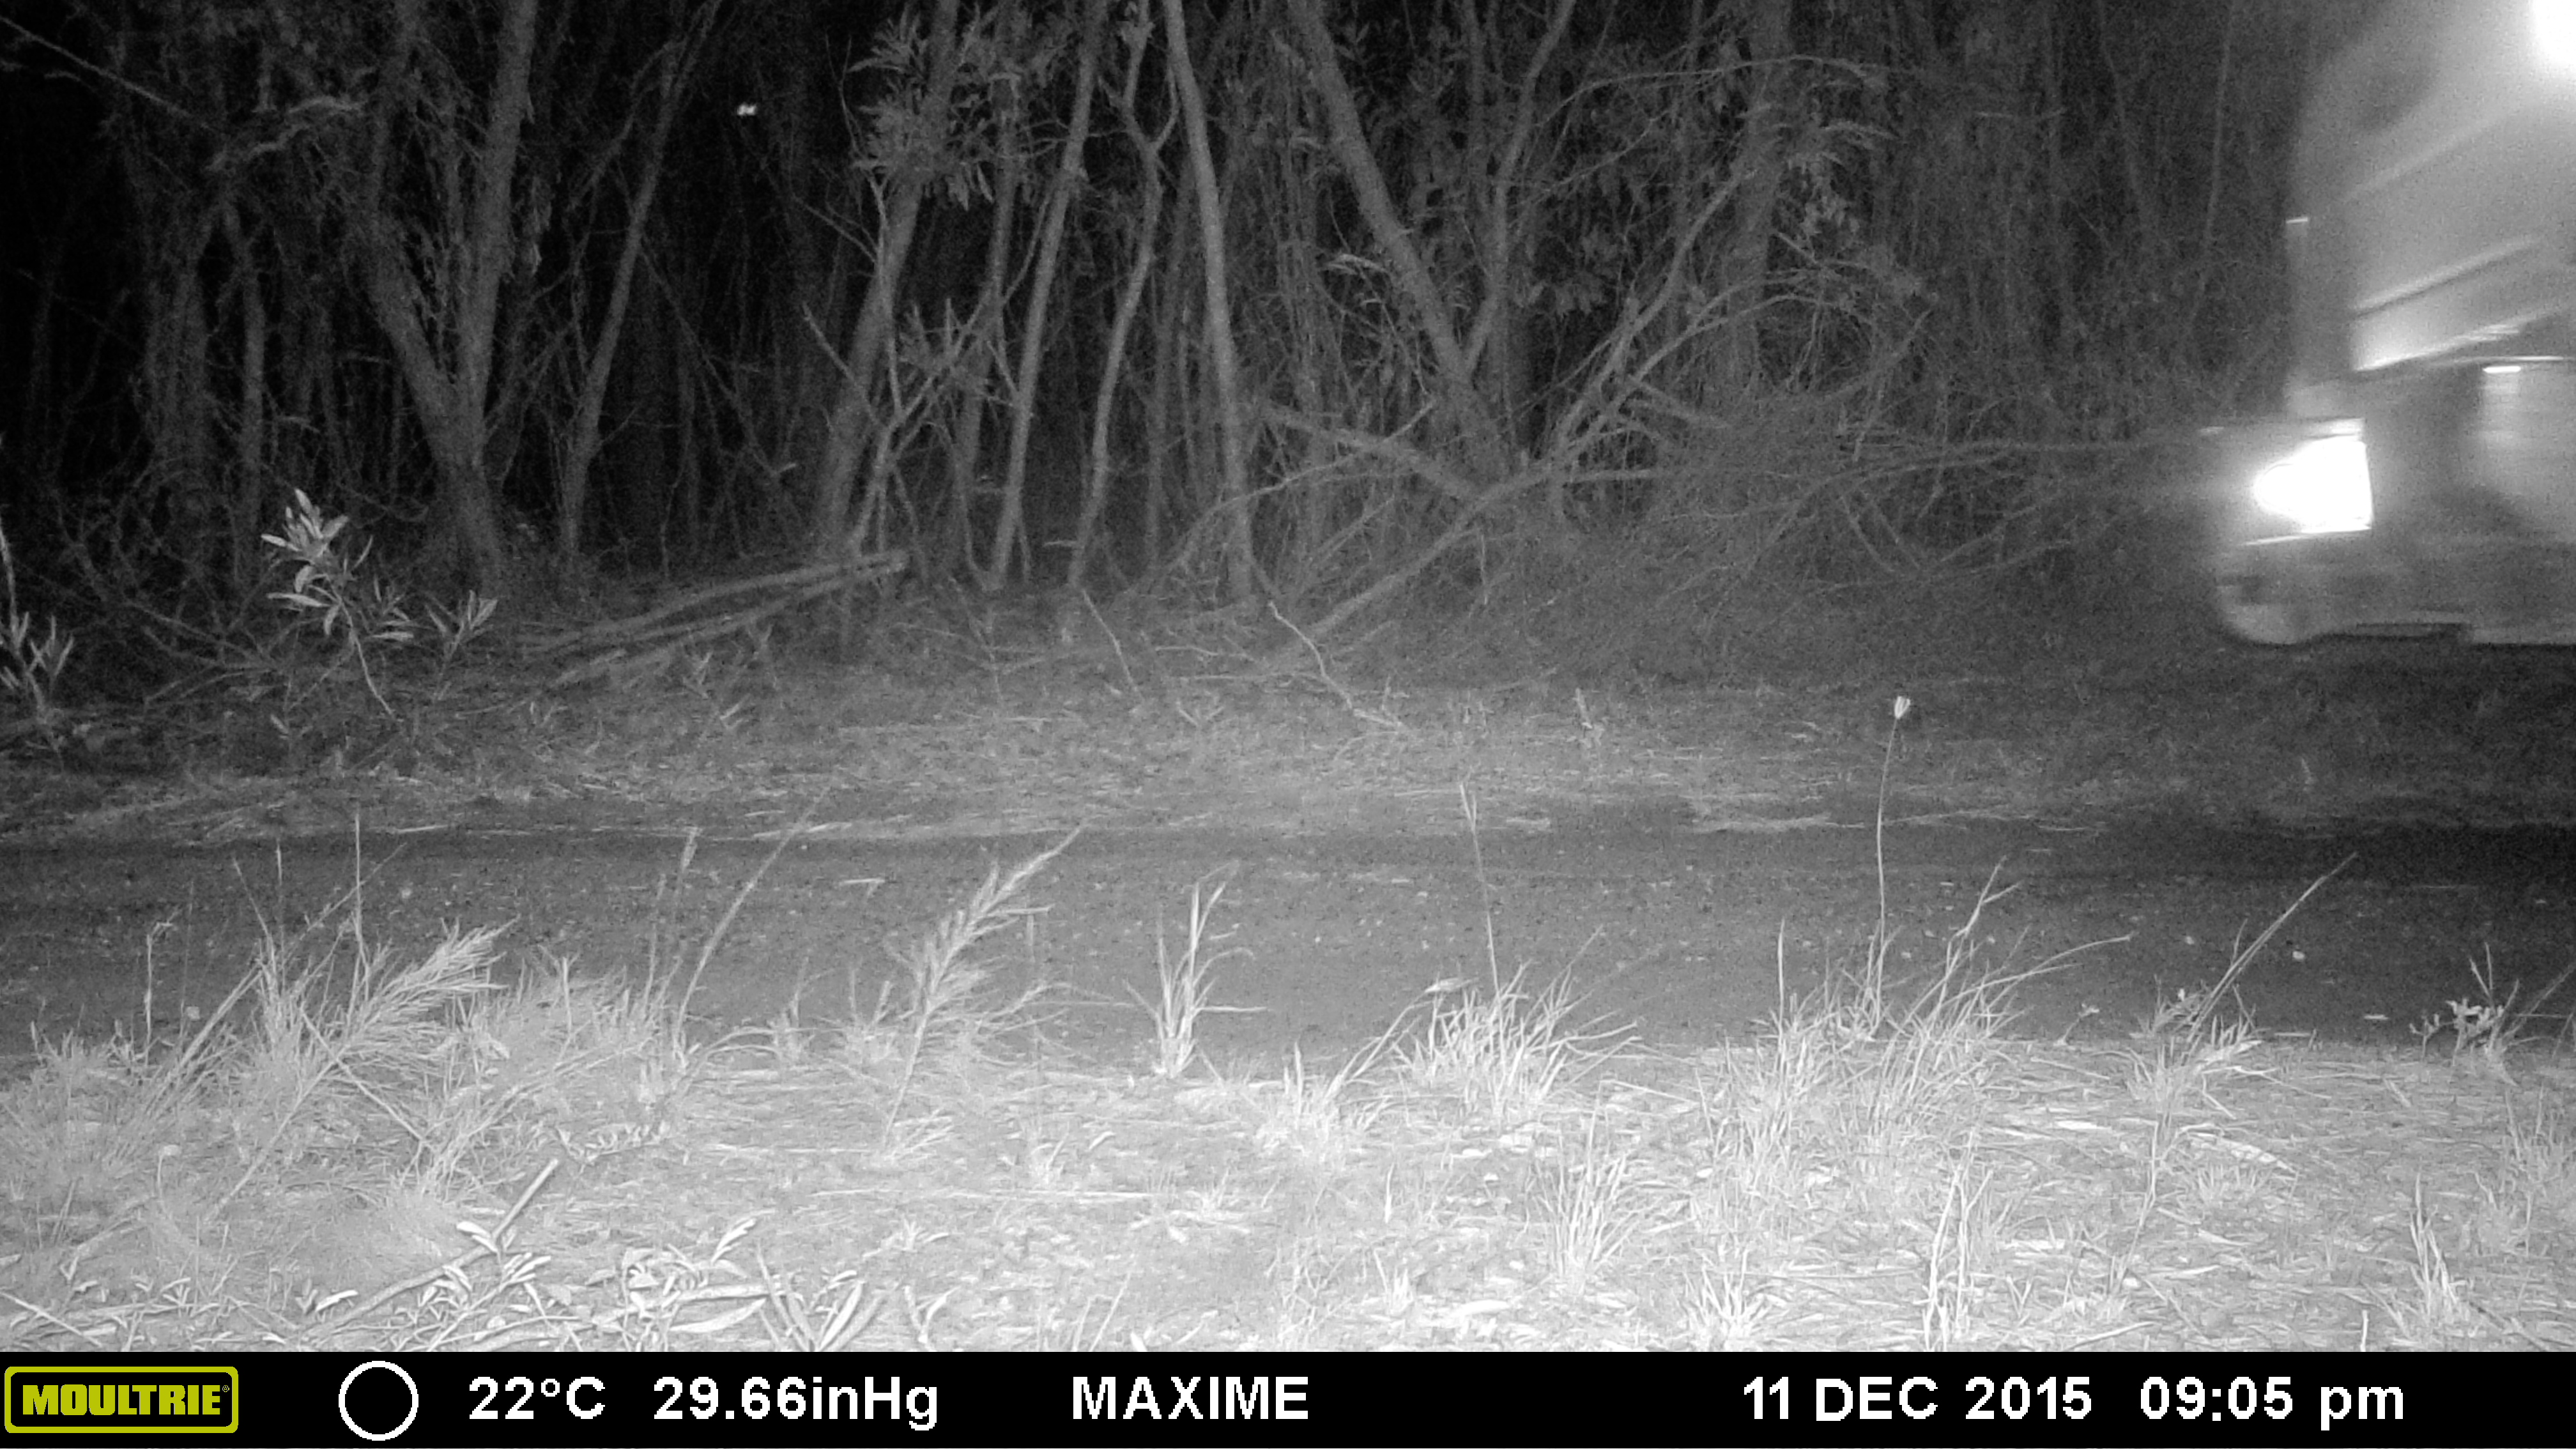Car: (2173, 2, 2571, 656)
